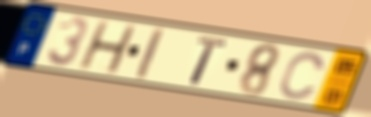3: (47, 16, 89, 69)
8: (235, 43, 282, 97)
C: (277, 50, 327, 102)
H: (75, 20, 139, 76)
I: (134, 26, 167, 82)
T: (187, 35, 231, 88)
